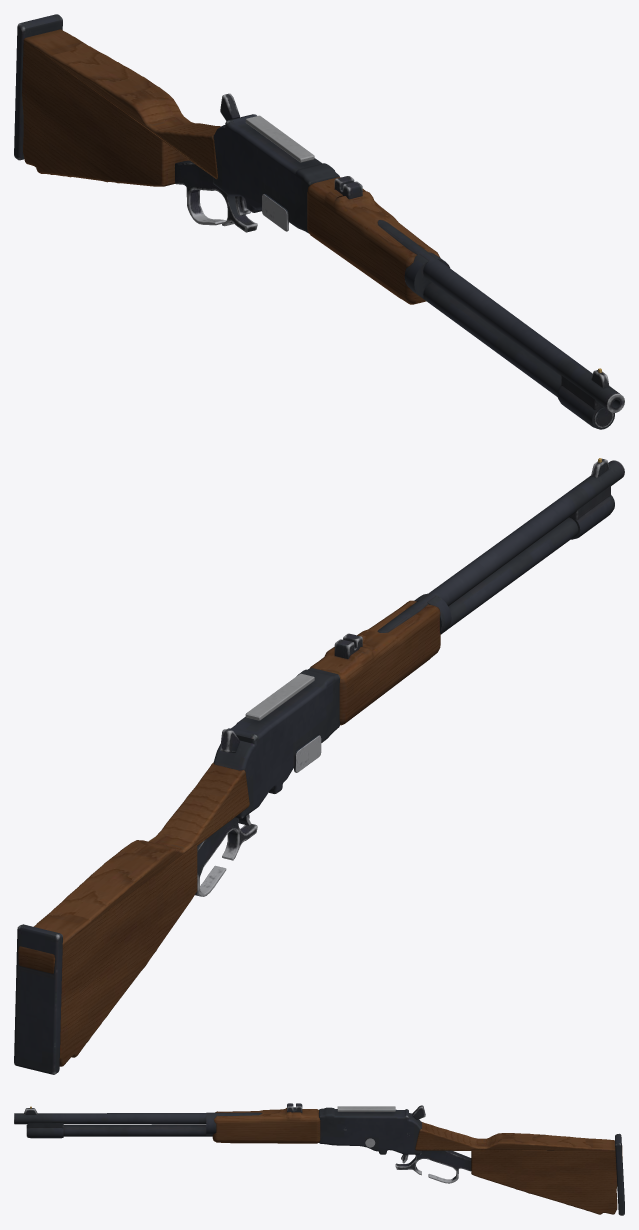
The model's file is sr_win94.glb.
The picture shows the model from 3 angles, top to bottom: view 1: azimuth 30°, elevation 25°; view 2: azimuth 150°, elevation 25°; view 3: azimuth 270°, elevation 25°; orthographic projection. The views are drawn at different scales.
Visible parts, largest first — view 1: body, bolt_mesh, mag_mesh; view 2: body, bolt_mesh; view 3: body, bolt_mesh.
Boxes of the visible parts, <box> form: body: <box>14,14,624,429</box>; bolt_mesh: <box>175,160,257,232</box>; mag_mesh: <box>262,193,288,231</box>; body: <box>14,458,624,1074</box>; bolt_mesh: <box>195,814,257,896</box>; body: <box>14,1103,624,1215</box>; bolt_mesh: <box>395,1150,471,1183</box>.
Size of the model in its own units: 0.04 by 0.185 by 0.9689.
1 material, 1 textured.
